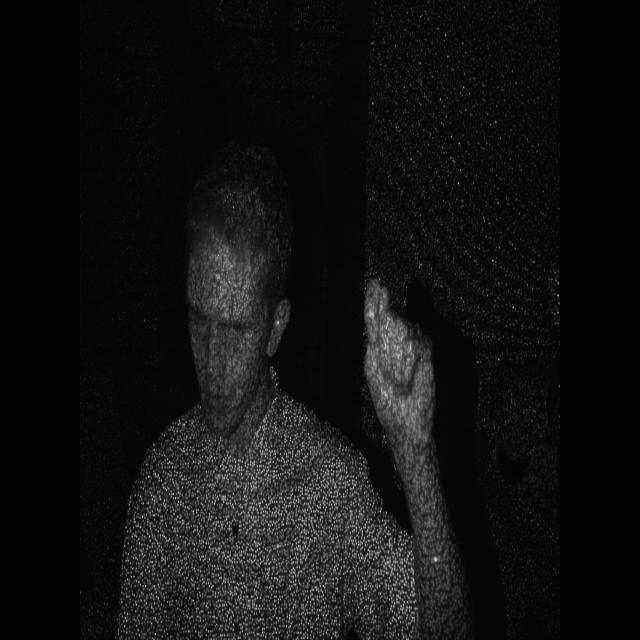T: (353, 266, 436, 454)
